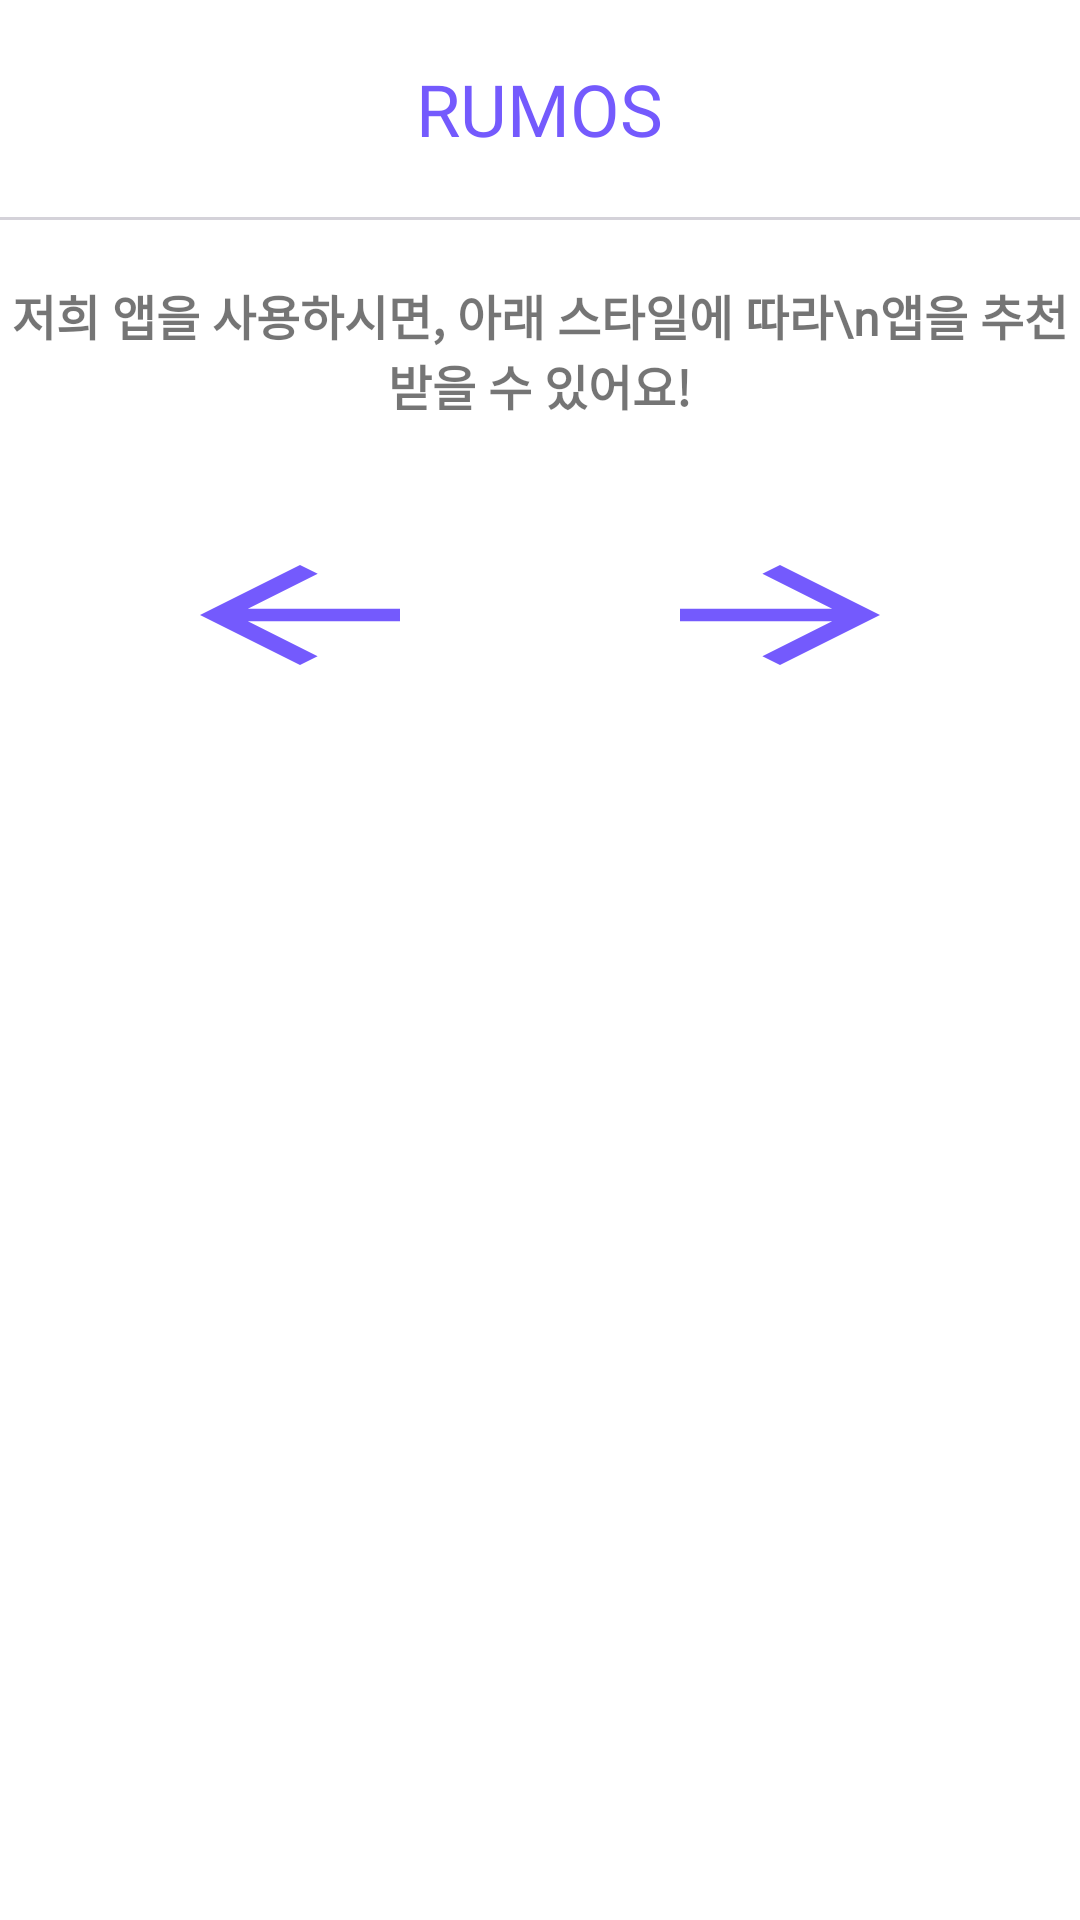

Icons on this 1080×1920 Android screen, each with the point to tap as [x,y]:
arrow back: [300,615]
arrow forward: [780,615]
